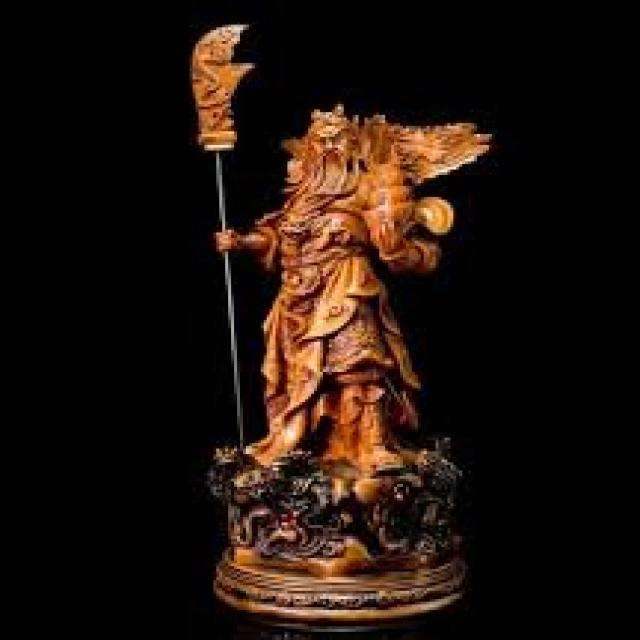Guan Yu: (250, 104, 400, 413)
